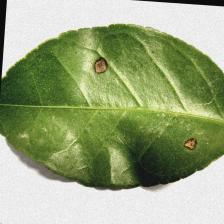canker: (78, 57, 203, 164)
